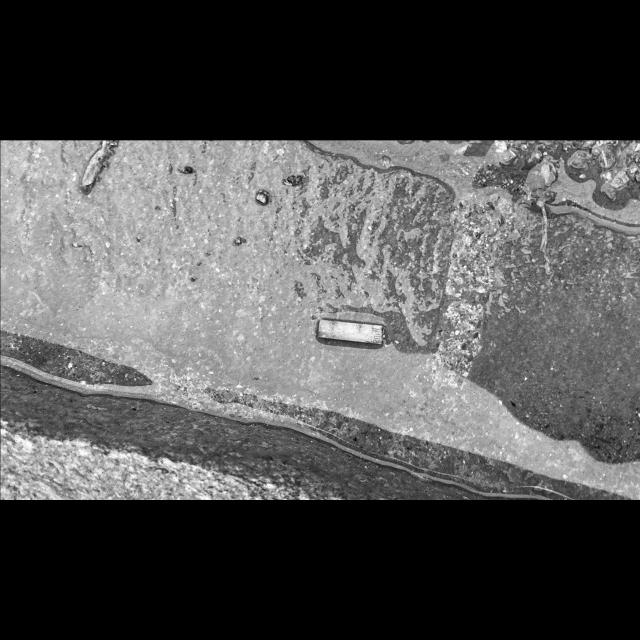cigarette: (317, 319, 383, 345)
